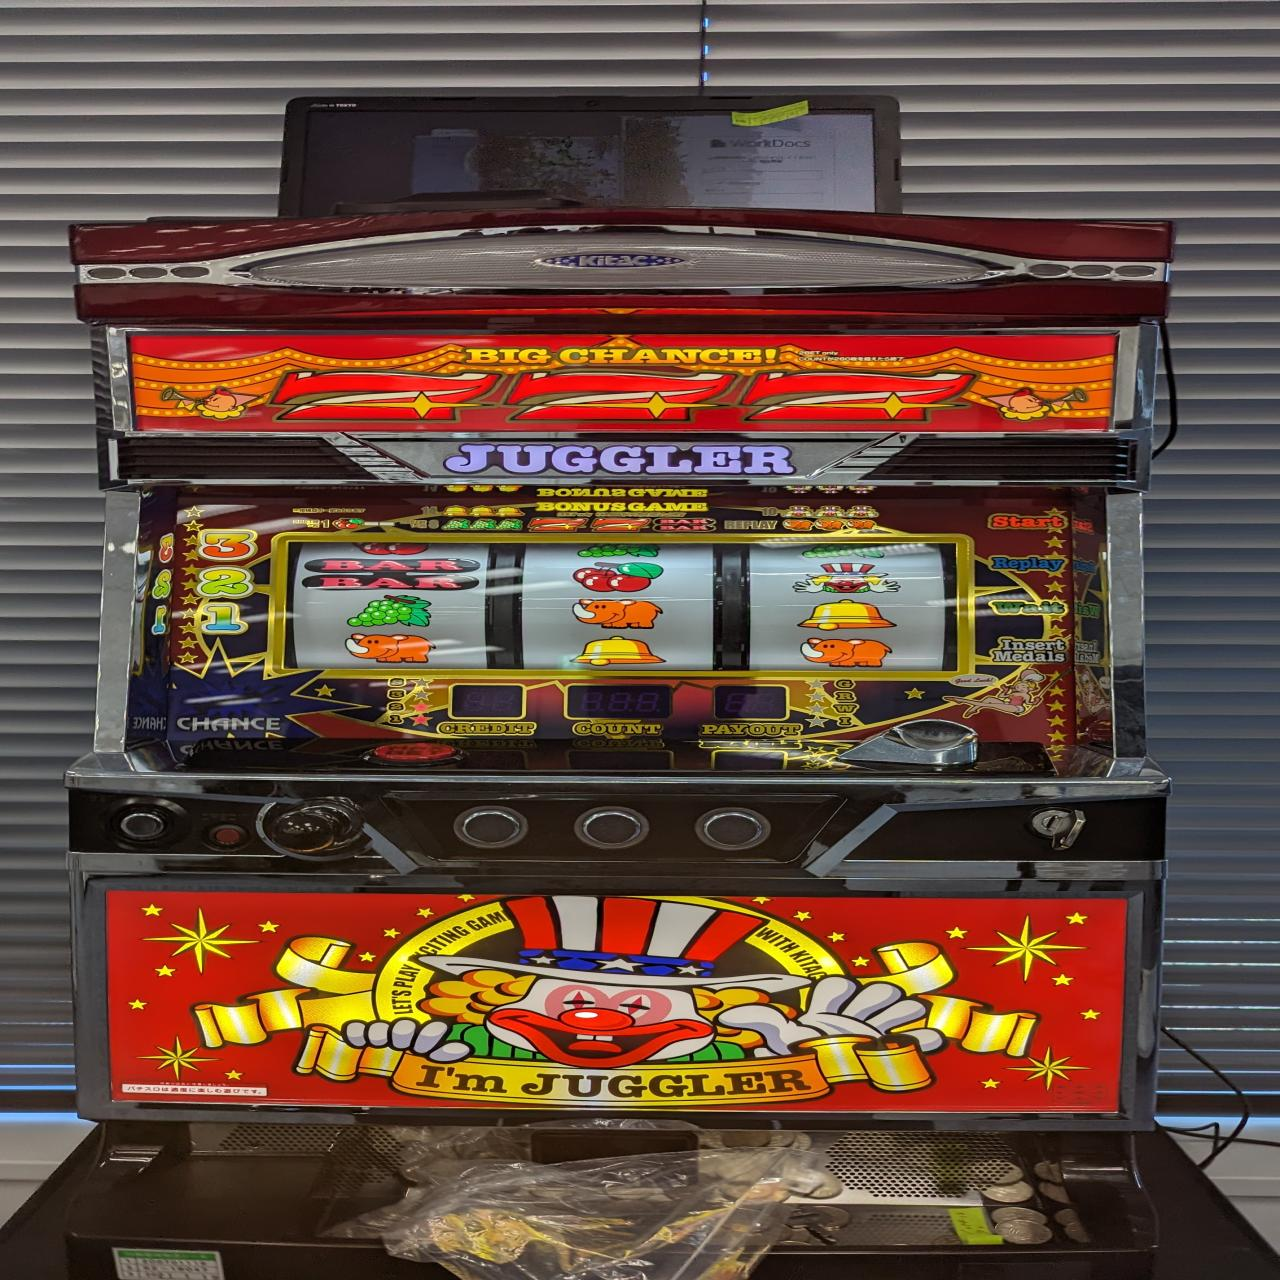Display: (282, 532, 961, 670)
bar: (299, 554, 482, 593)
bell: (792, 597, 901, 633), (563, 633, 673, 667)
cherry: (566, 560, 667, 594)
clown: (791, 559, 905, 597)
grape: (340, 592, 440, 629)
rhino: (339, 631, 442, 666), (570, 595, 665, 631), (796, 635, 896, 668)
